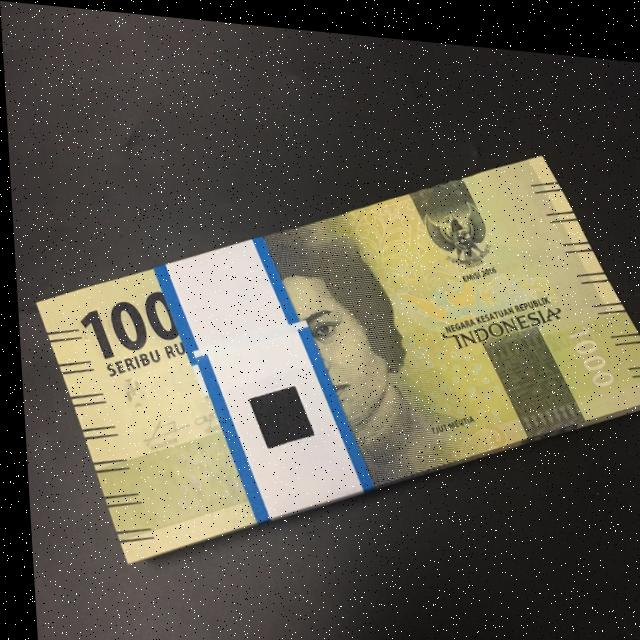1000IndonesianRupiah: (21, 110, 640, 596)
